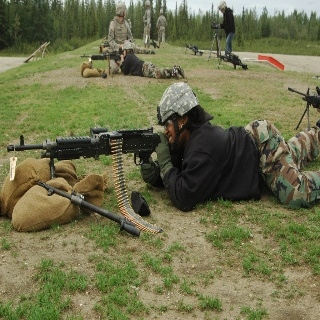rifle: (7, 123, 165, 181)
